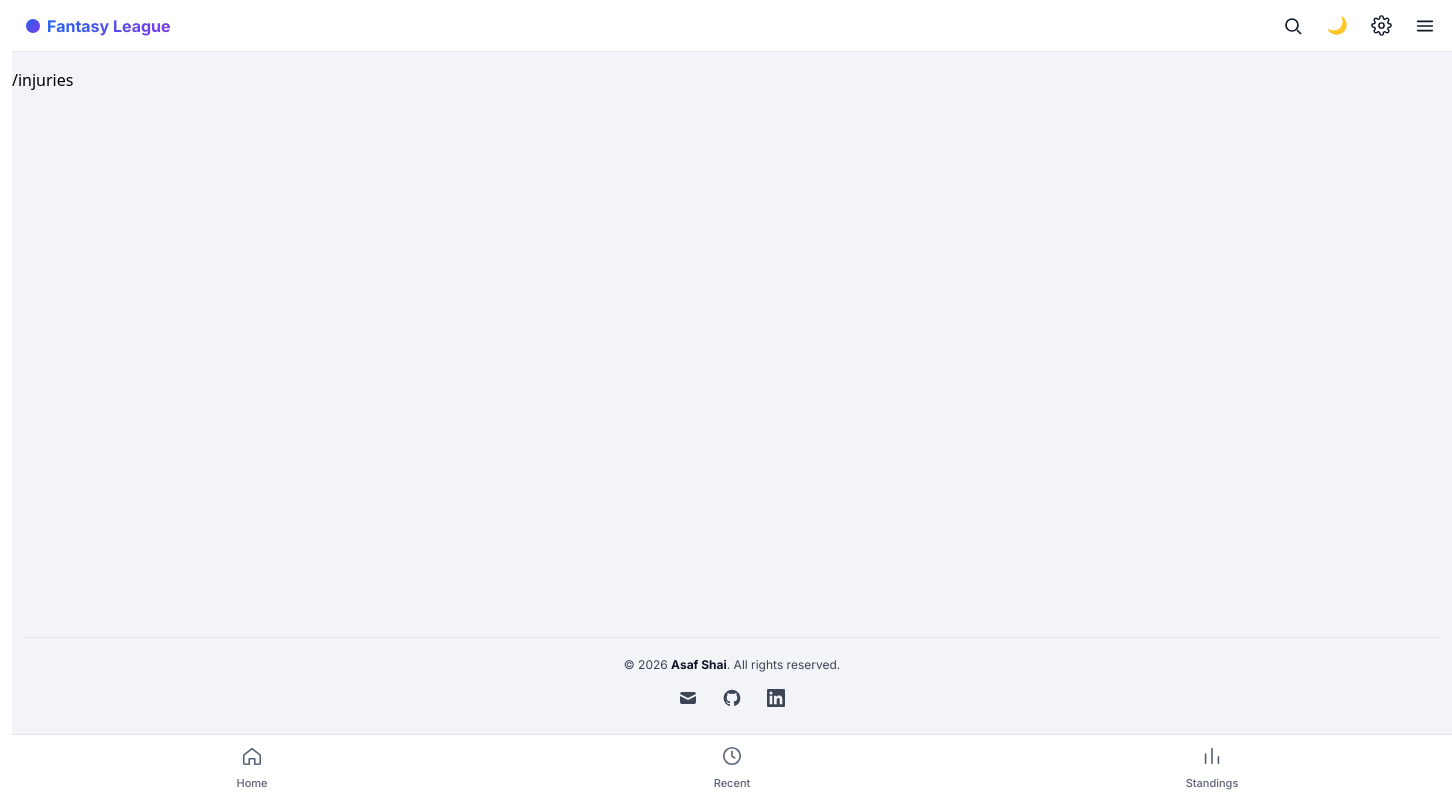
tab bar from saved settings › Recent goes back and forth between the last two pages opened from outside the bar
Expected: the button "Recent" is shown, x1=492 y1=735 x2=972 y2=798
Click the link "Home".
click(252, 768)  # box x1=236 y1=745 x2=268 y2=790
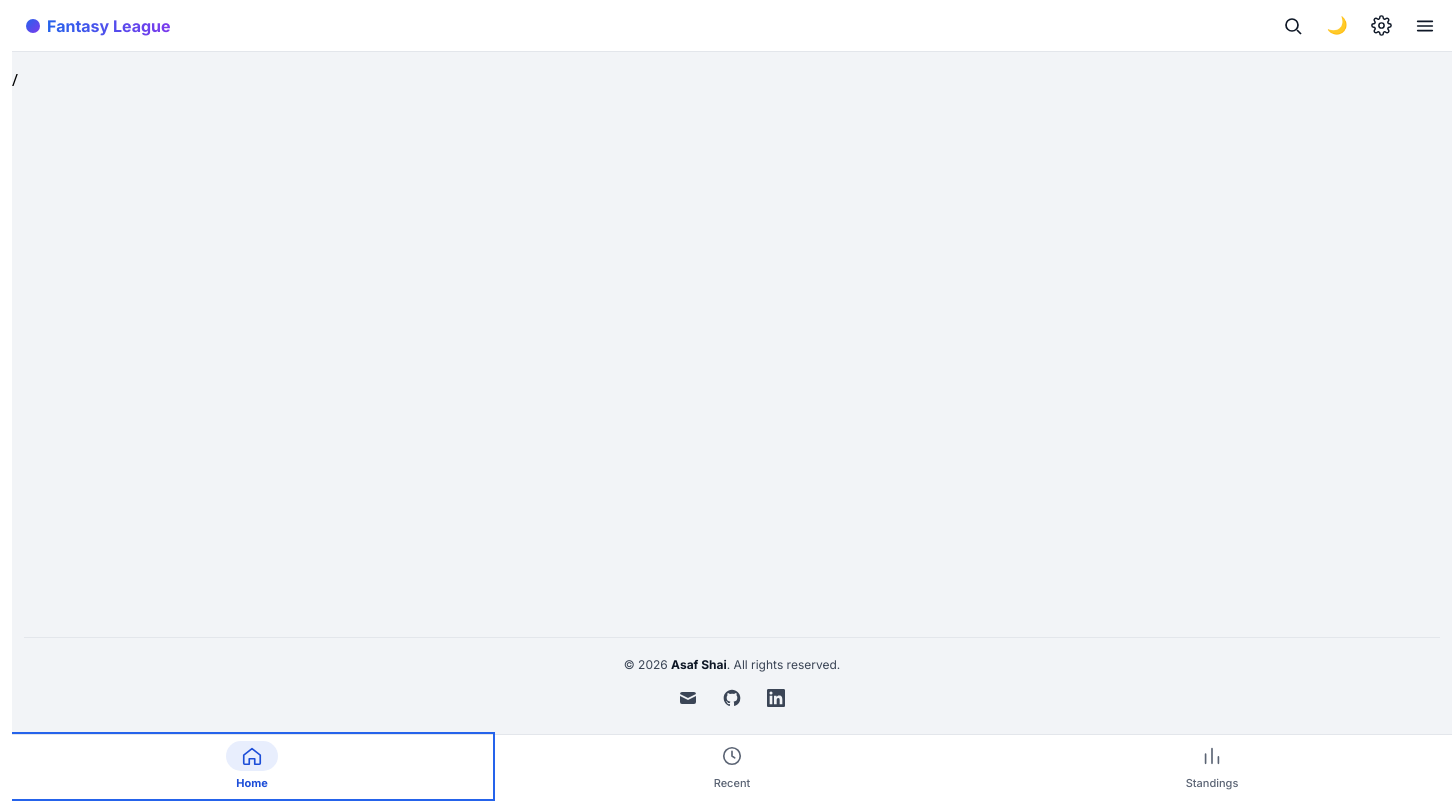
Click the link "Recent".
click(732, 768)  # box x1=714 y1=745 x2=750 y2=790
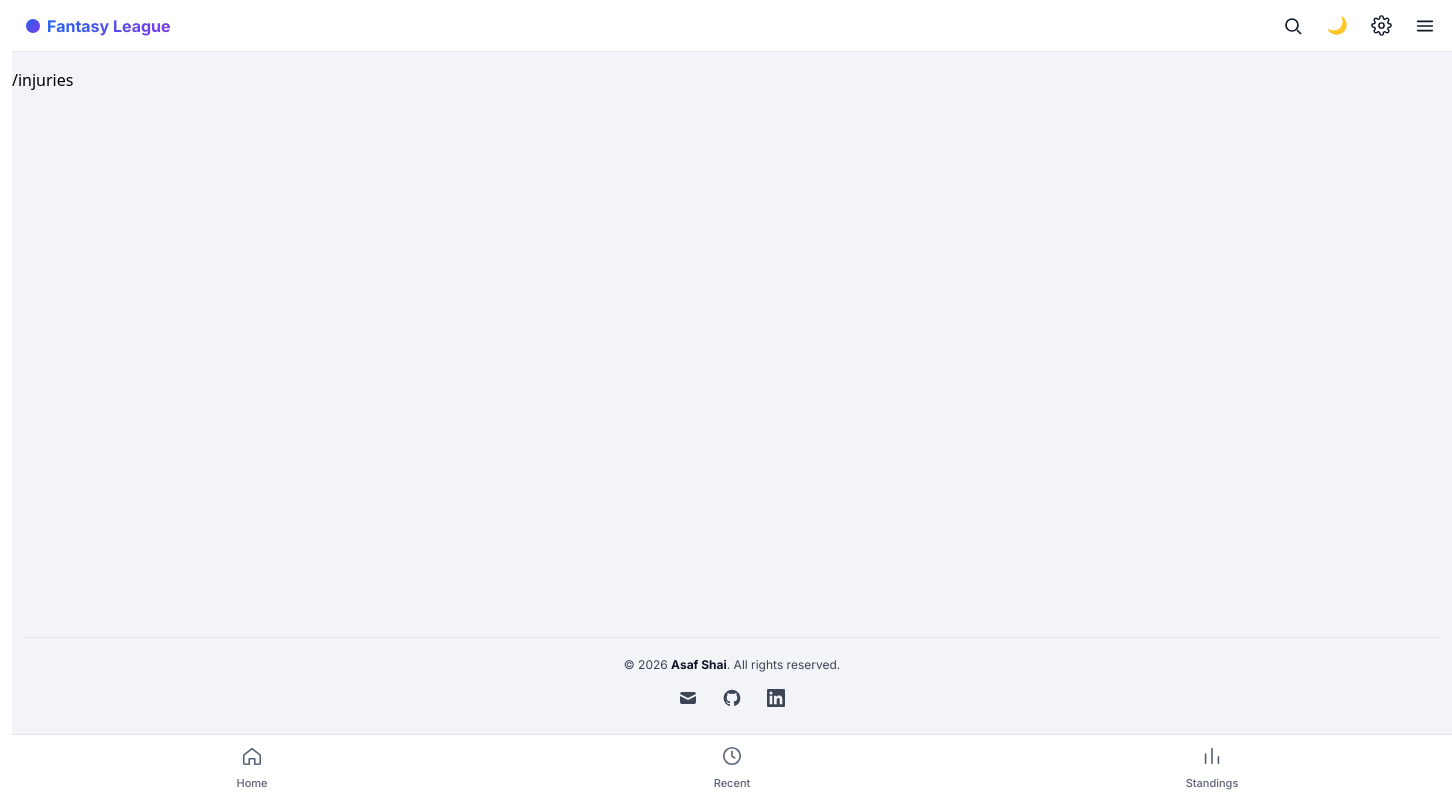
Now the text with test id "where" reads "/injuries", box x1=12 y1=69 x2=73 y2=91
